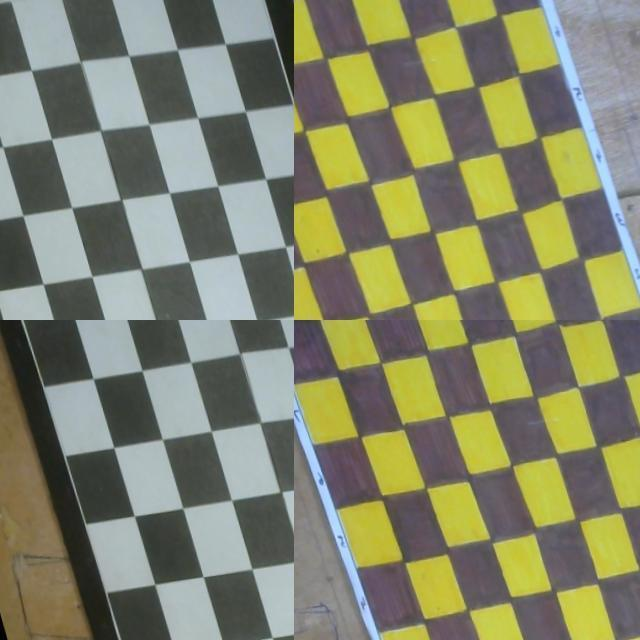chess-table-corners: (16, 320, 23, 324), (0, 16, 3, 24), (251, 0, 256, 3), (621, 320, 628, 322), (500, 0, 504, 1)
